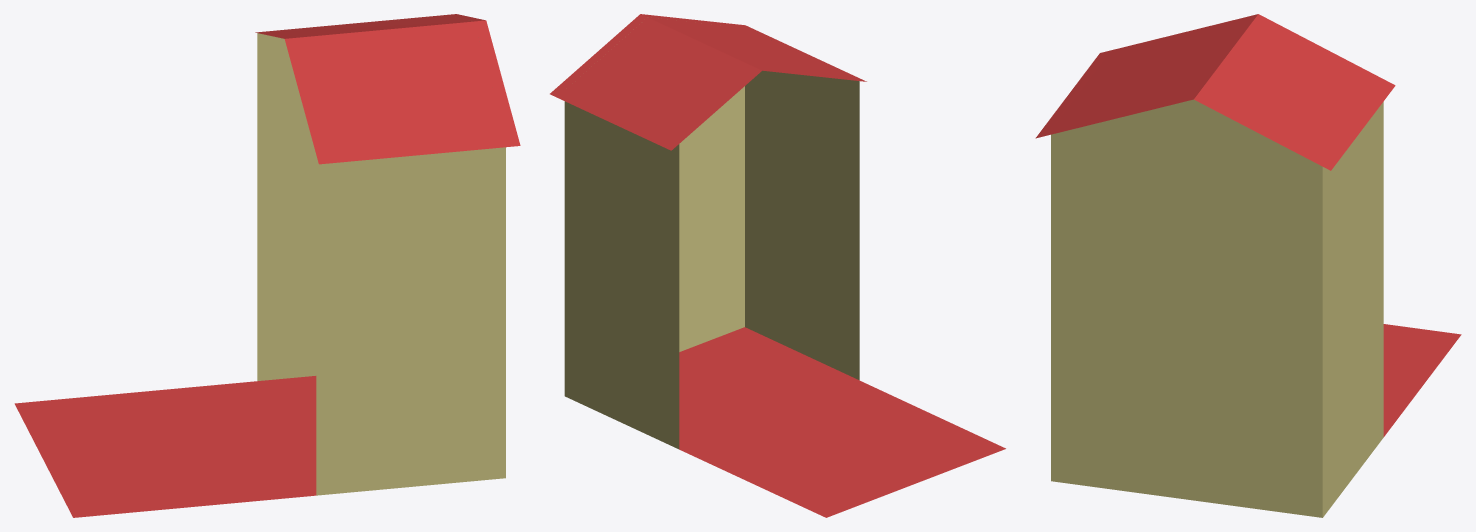
3 renders of one model, left to right at view 1: azimuth 30°, elevation 25°; view 2: azimuth 150°, elevation 25°; view 3: azimuth 270°, elevation 25°, orthographic. The views are drawn at different scales.
Bounding box in the file's own units: 10.68 × 8.48 × 8.92.
